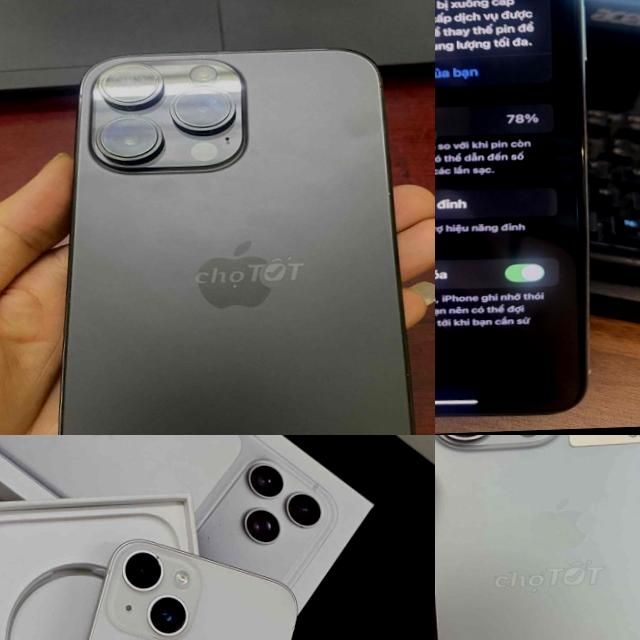gen_12_13: (435, 435, 640, 640)
gen_14: (30, 31, 435, 435), (1, 526, 314, 640)
gen_x_xs: (435, 0, 603, 427)
